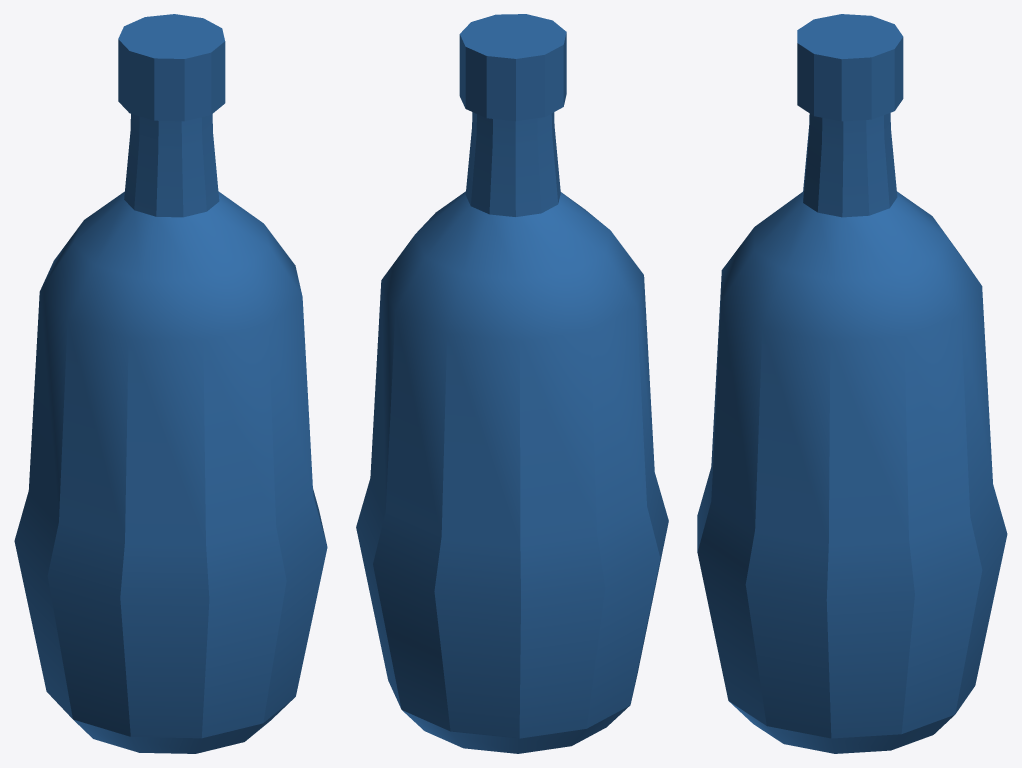
The model's file is 2_bigBlueBottle.fbx.
The picture shows the model from 3 angles, left to right: view 1: azimuth 30°, elevation 25°; view 2: azimuth 150°, elevation 25°; view 3: azimuth 270°, elevation 25°; orthographic projection.
Visible parts, largest first — view 1: Sphere.001; view 2: Sphere.001; view 3: Sphere.001.
Boxes of the visible parts, box(x1,y1,x2,y2) form: Sphere.001: box(14, 14, 327, 753); Sphere.001: box(356, 14, 668, 753); Sphere.001: box(697, 14, 1007, 753).
Bounding box in the file's own units: 121 × 290 × 120.
